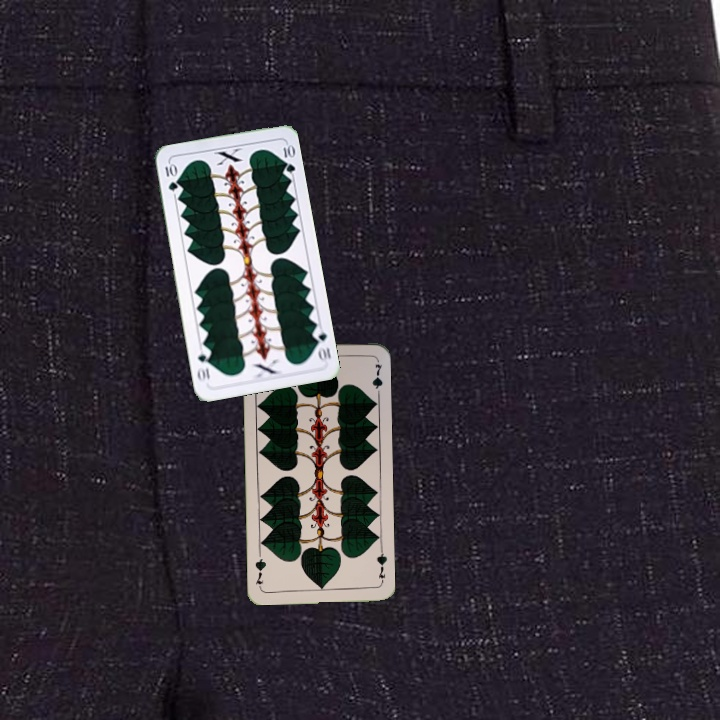G10: (309, 323, 334, 364), (161, 159, 180, 194)
G7: (373, 546, 389, 586)
